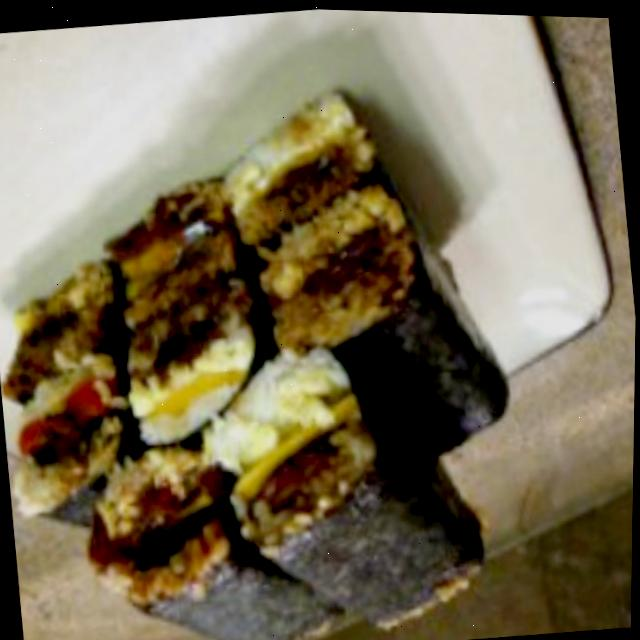寿司卷物: (0, 56, 556, 640)
